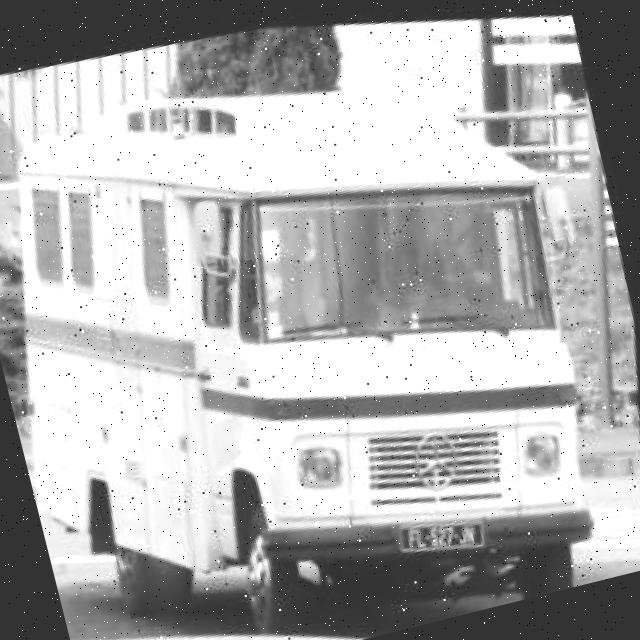Autre: (398, 502, 488, 566)
